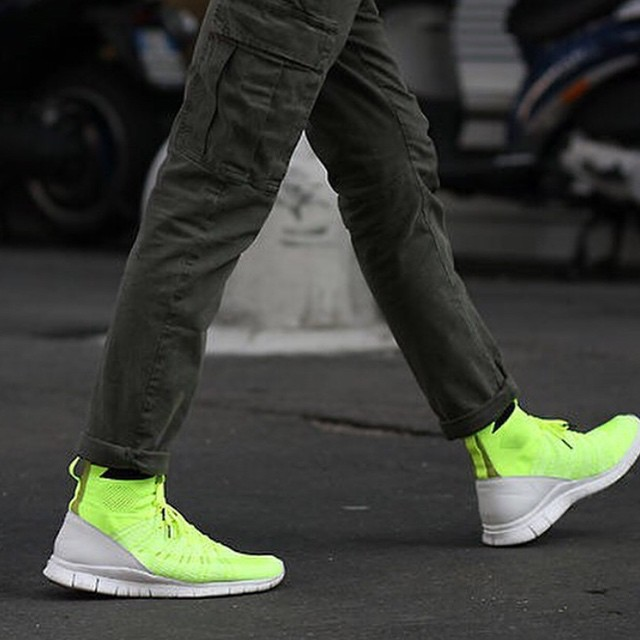sneaker: (28, 438, 308, 611), (432, 394, 640, 558)
